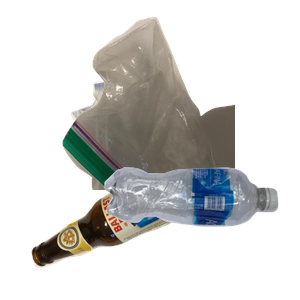glass: (29, 150, 238, 300)
paper: (68, 66, 215, 197)
plastic: (102, 165, 300, 300)
trash: (60, 14, 300, 194)
